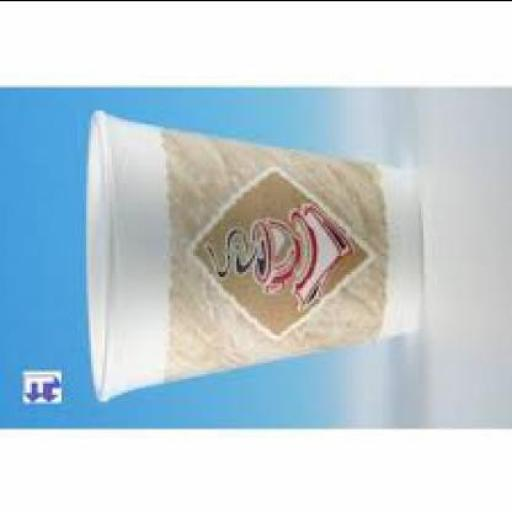paper: (82, 105, 419, 398)
